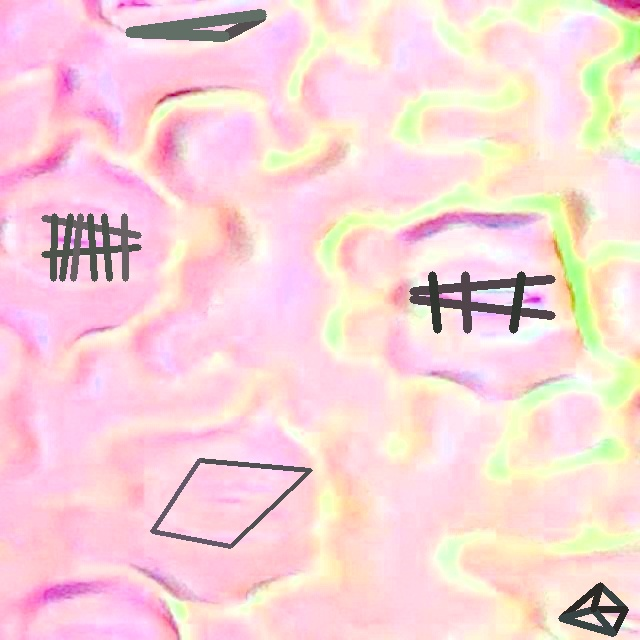close: (151, 459, 311, 548), (41, 214, 141, 281), (126, 10, 264, 41)
open: (409, 271, 555, 333), (558, 582, 628, 636)
